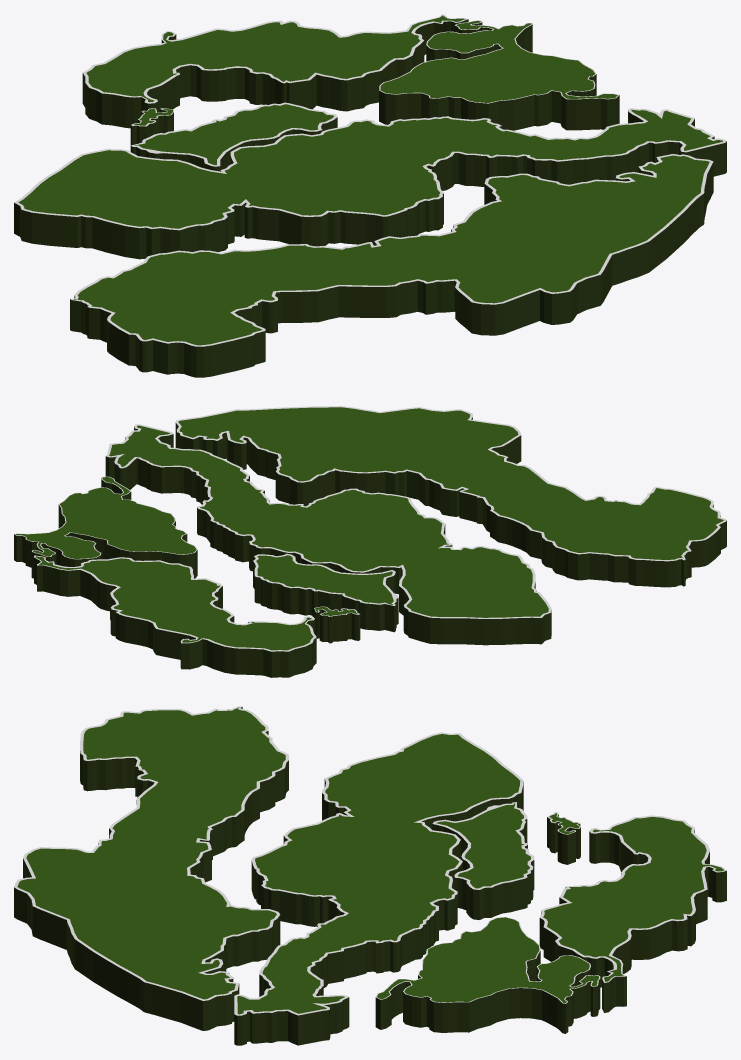
Rendered from Zeeland-map.fbx.
3 views of the same model, one above another, from view 1: azimuth 30°, elevation 25°; view 2: azimuth 150°, elevation 25°; view 3: azimuth 270°, elevation 25° (orthographic). The views are drawn at different scales.
Visible parts, largest first — view 1: Plane; view 2: Plane; view 3: Plane.
Boxes of the visible parts, box(x1,y1,x2,y2) form: Plane: box(14, 14, 726, 377); Plane: box(14, 406, 726, 677); Plane: box(14, 706, 726, 1045).
Size of the model in its own units: 592 by 26.94 by 576.
